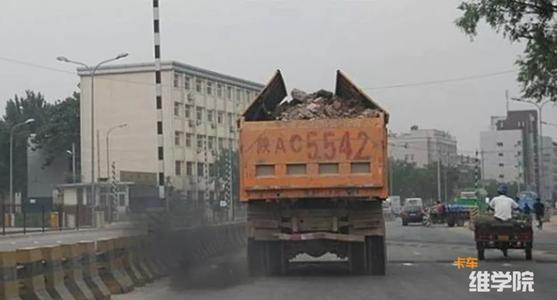smoke: (143, 206, 251, 300)
